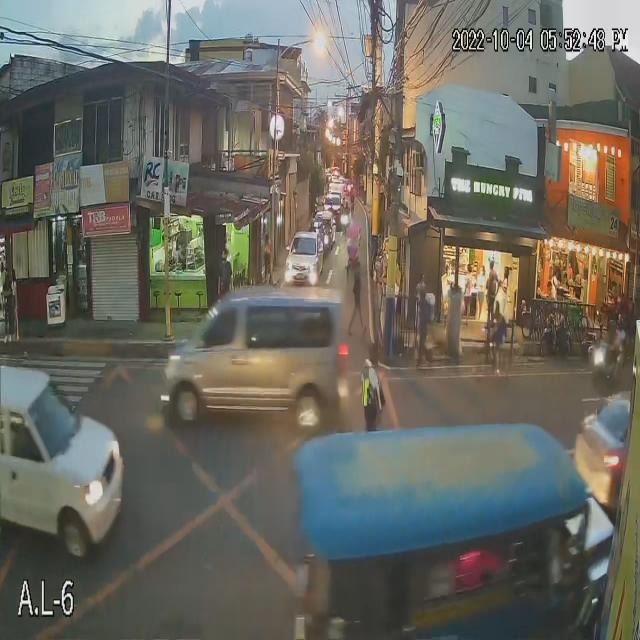helmet: (606, 319, 618, 336)
motorcycle: (592, 354, 630, 390)
rider: (606, 335, 623, 375)
